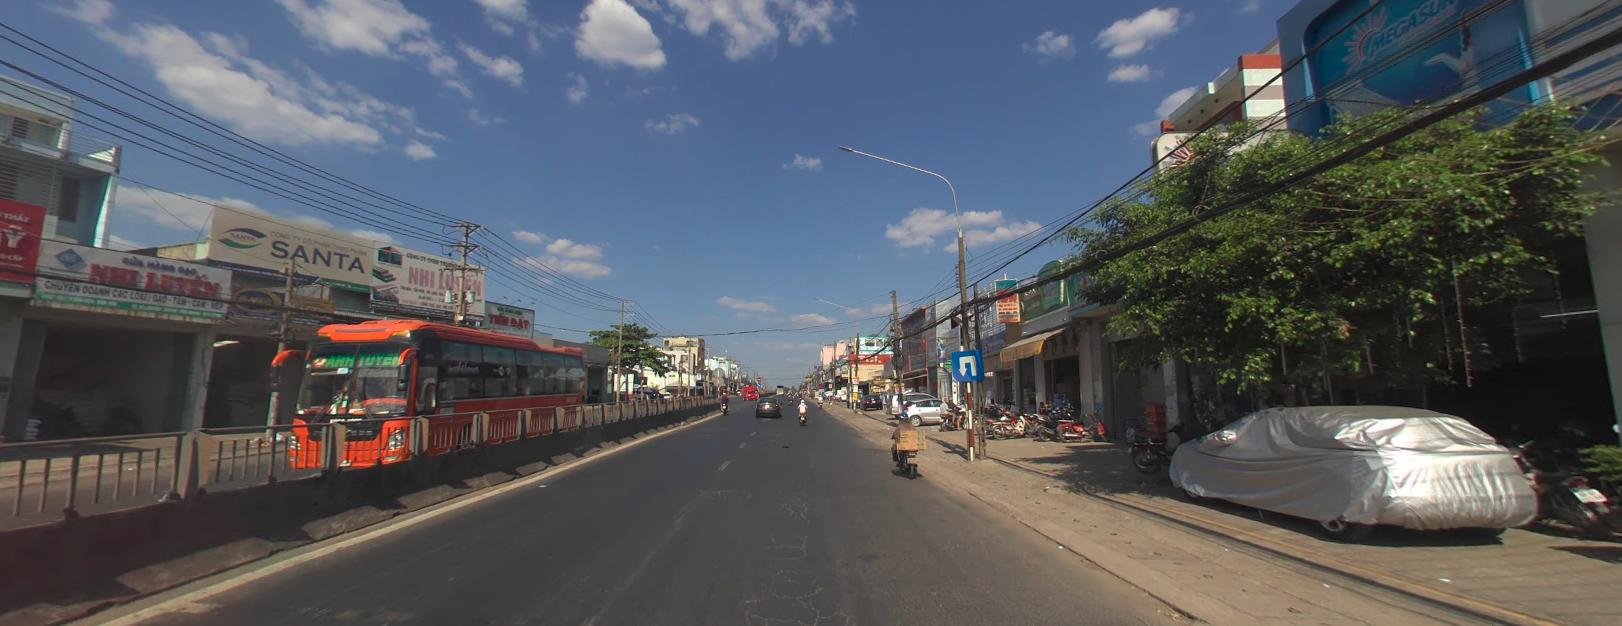Cam dung va do: (819, 381, 824, 386), (819, 382, 823, 386)
Cam nguoc chieu: (756, 375, 760, 380), (756, 375, 760, 379)
Hieu lenh: (756, 380, 760, 385), (756, 381, 760, 385)
